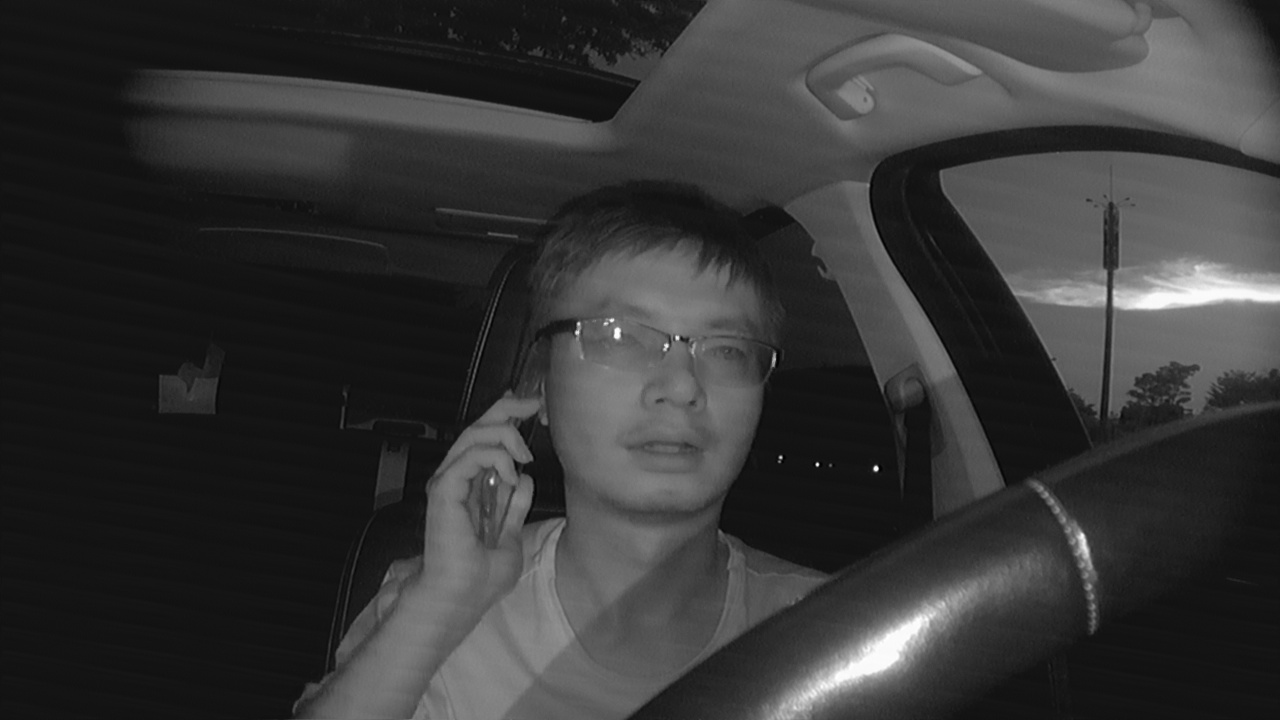hand: (420, 397, 545, 599)
